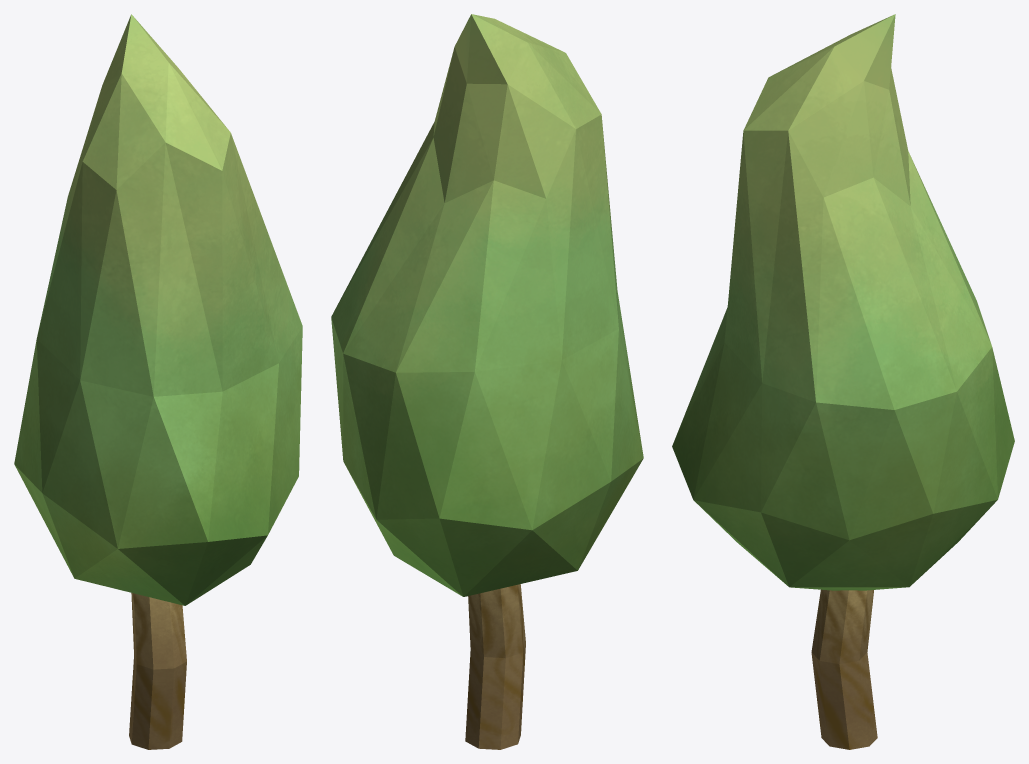
File: Tree_1.fbx
The picture shows the model from 3 angles, left to right: view 1: azimuth 30°, elevation 25°; view 2: azimuth 150°, elevation 25°; view 3: azimuth 270°, elevation 25°; orthographic projection. The views are drawn at different scales.
Visible parts, largest first — view 1: Tree 1; view 2: Tree 1; view 3: Tree 1.
Part boxes in pixels (box(x1,y1,x2,y2)): Tree 1: box(14, 14, 302, 749); Tree 1: box(331, 14, 643, 749); Tree 1: box(672, 14, 1014, 749).
Bounding box in the file's own units: 316 × 872 × 375.
